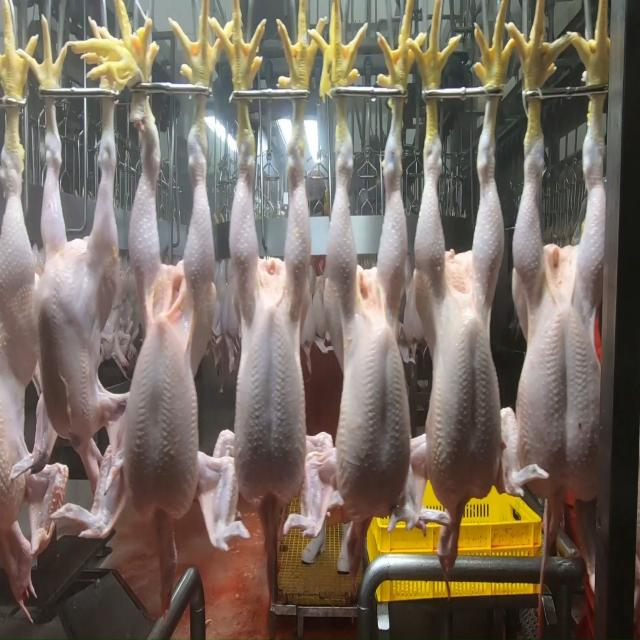chicken: (115, 97, 216, 522), (510, 103, 610, 503), (412, 104, 506, 512), (331, 111, 412, 513), (34, 86, 120, 432), (230, 138, 312, 500), (1, 145, 43, 508)
